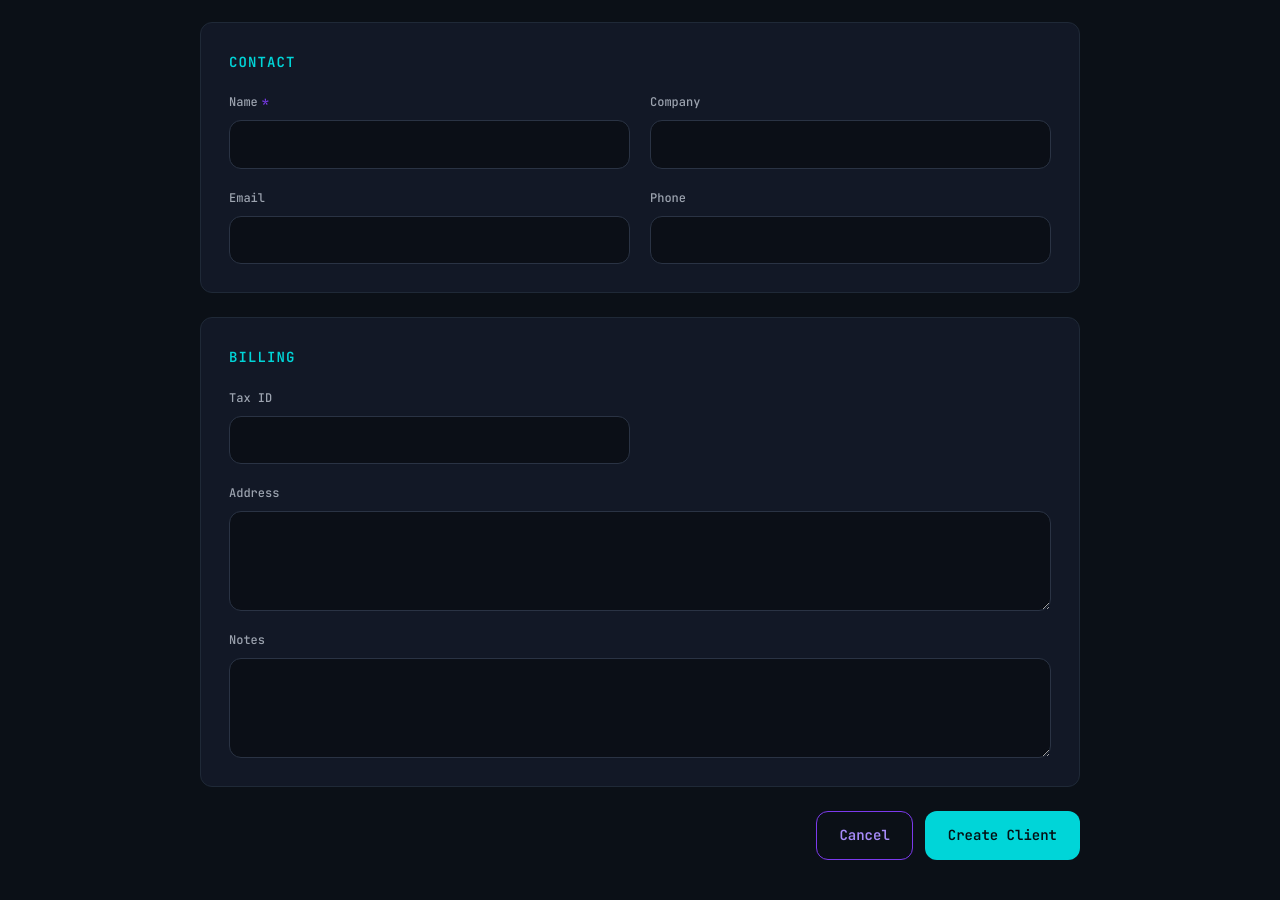
Test: NewClient page › shows validation error when name is empty
(page scrolled)
Click the button "Create Client" at (1002, 836), box x1=925 y1=812 x2=1080 y2=860
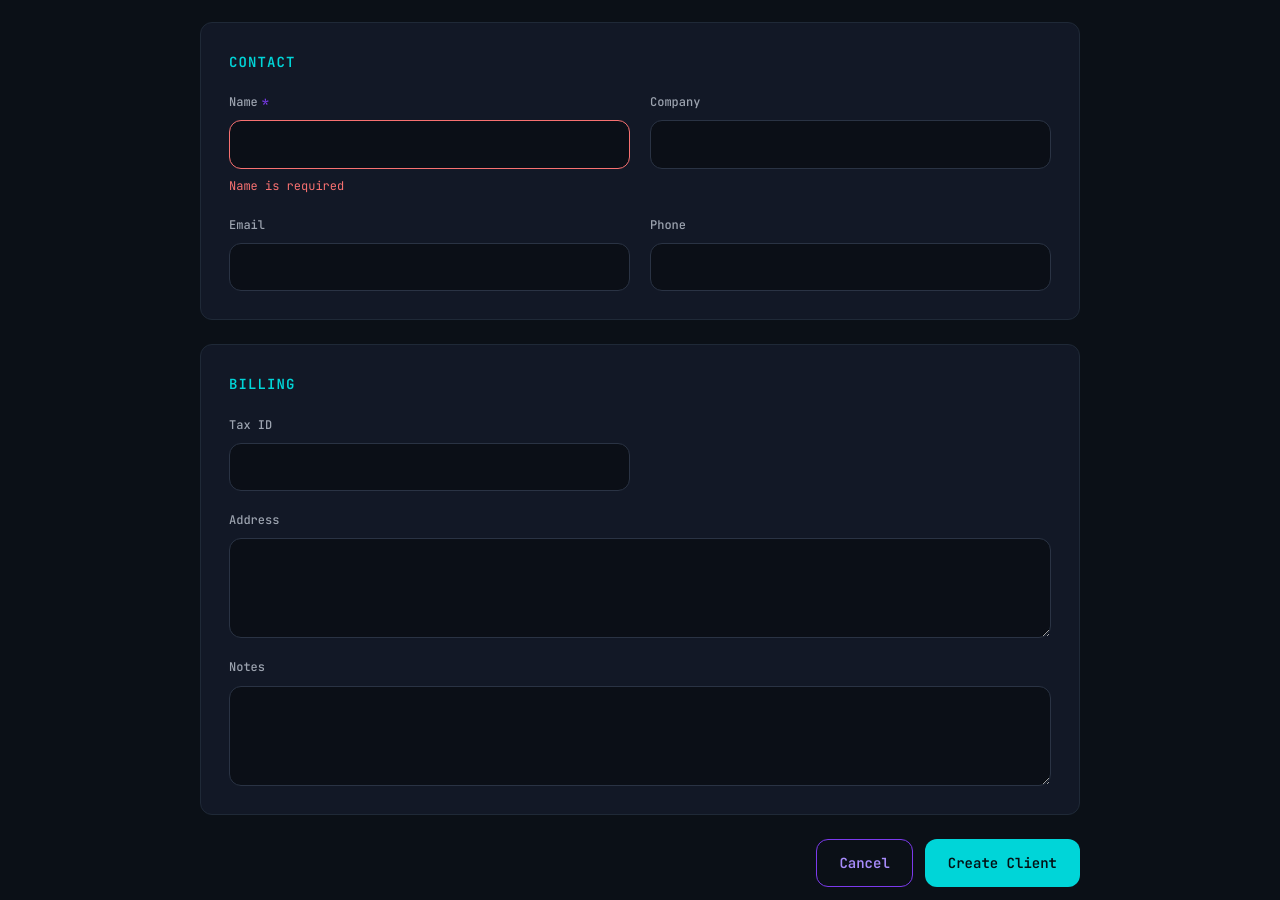
Expected: the text "Name is required" is shown, x1=229 y1=178 x2=344 y2=194
